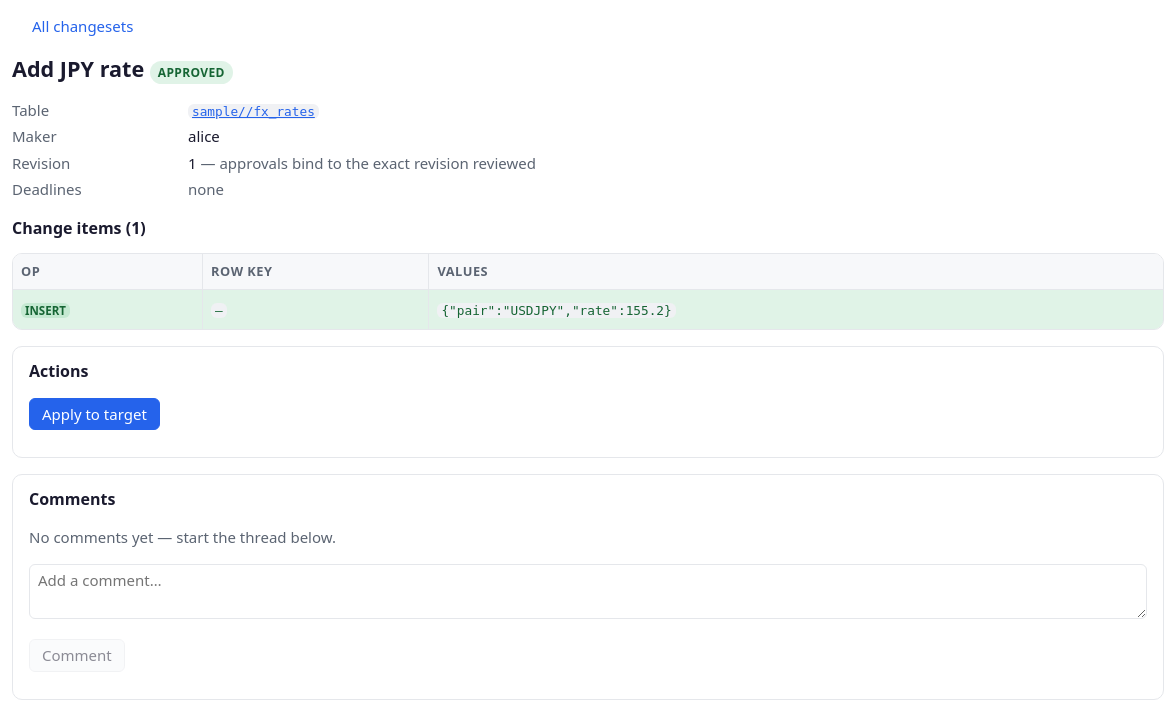
Scenario: ChangesetDetail apply action › lists pre-apply validation issues when validation blocked the write
Click the button "Apply to target" at (94,414), box [29, 398, 160, 430]
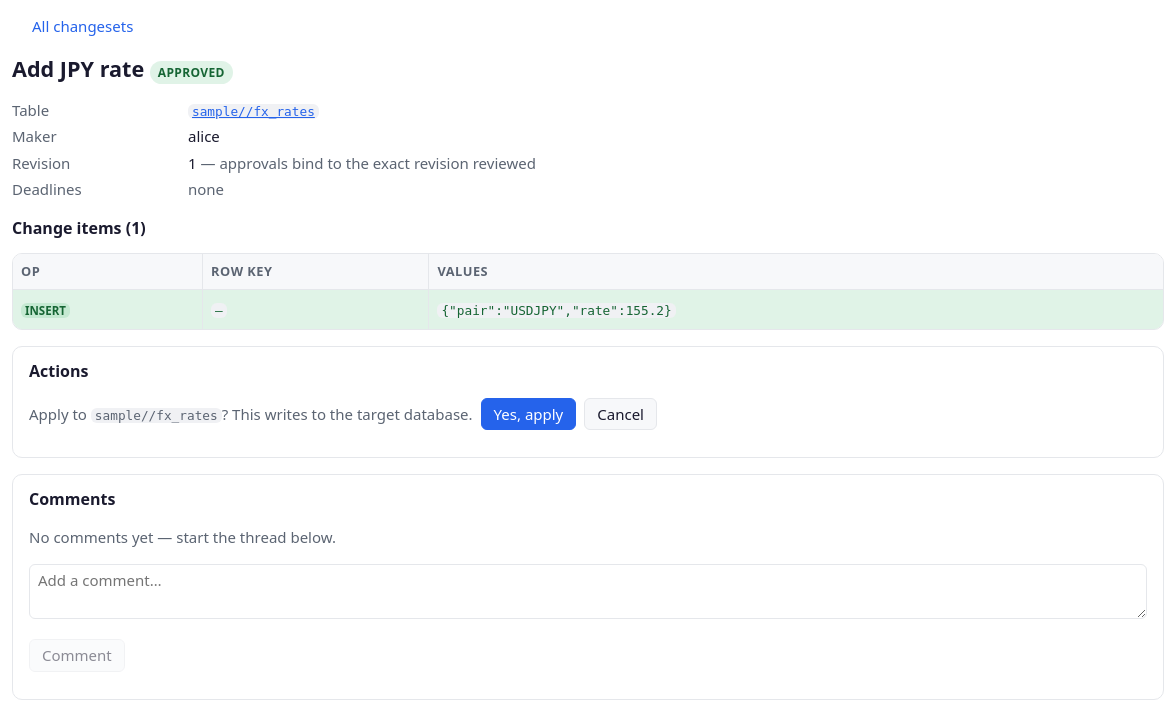
Click the button "Yes, apply" at (528,414), box [481, 398, 576, 430]
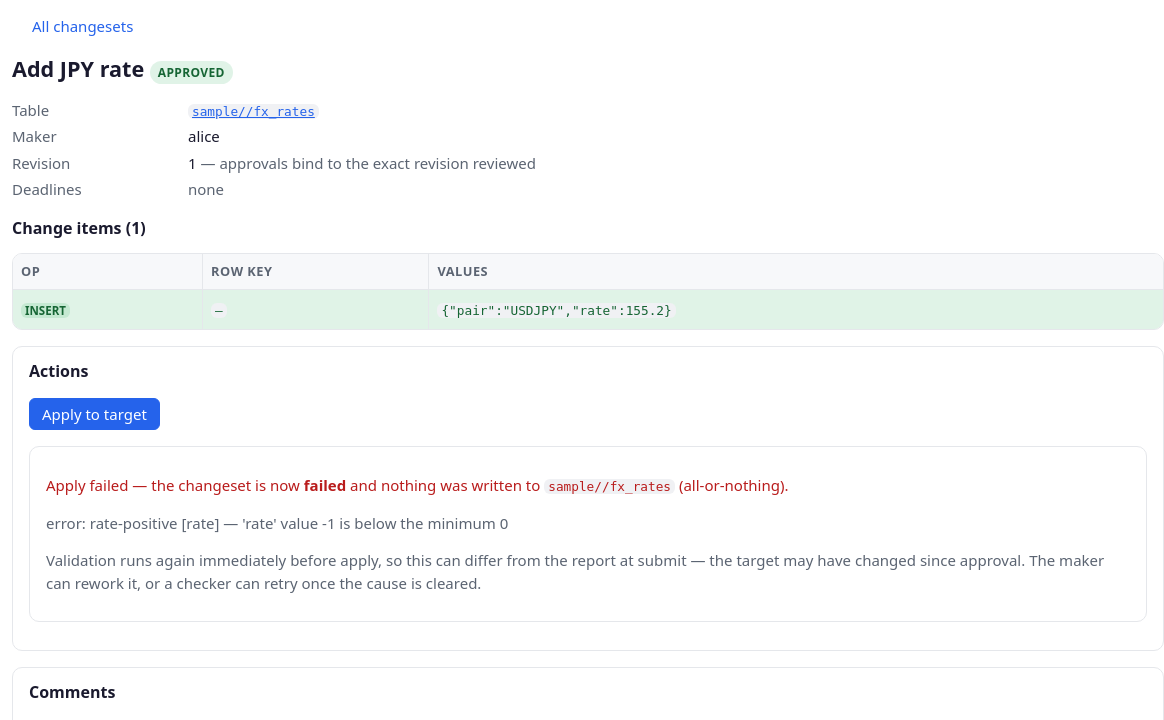
Expected: the text "rate-positive" is shown, [90, 513, 178, 533]
Expected: the text "below the minimum" is shown, [242, 513, 508, 533]
